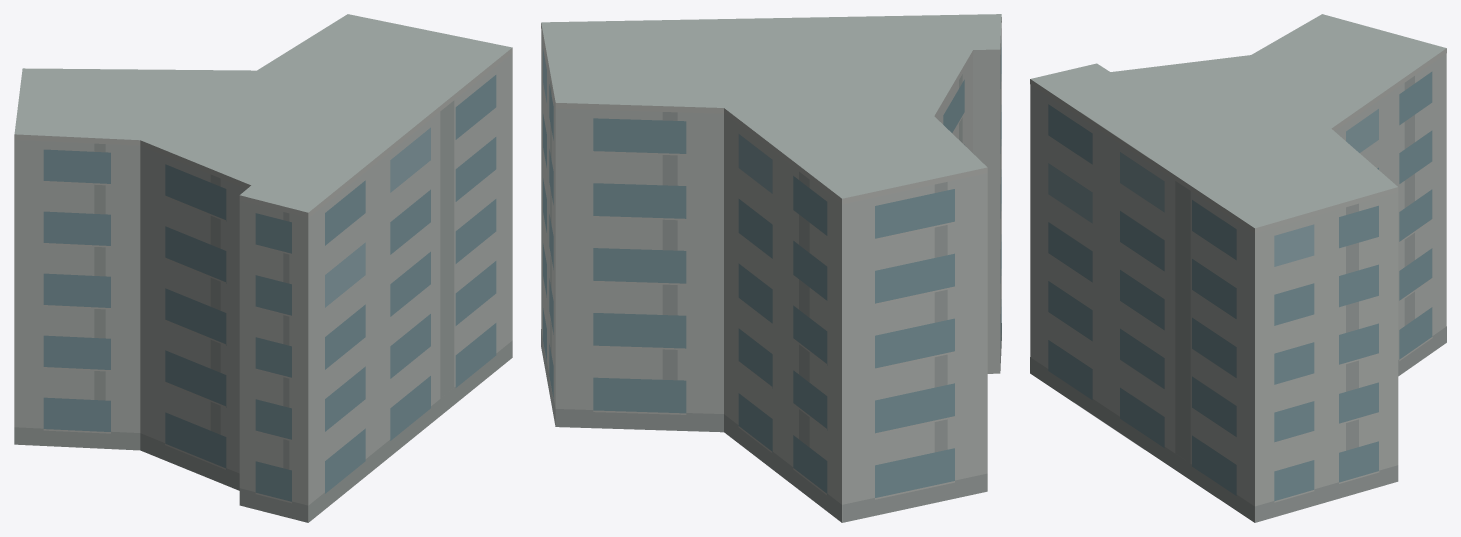
Rendered from survey-upis-32812053.glb.
3 renders of one model, left to right at view 1: azimuth 30°, elevation 25°; view 2: azimuth 150°, elevation 25°; view 3: azimuth 270°, elevation 25°, orthographic. The views are drawn at different scales.
Visible parts, largest first — view 1: survey-upis-32812053.tmp; view 2: survey-upis-32812053.tmp; view 3: survey-upis-32812053.tmp.
Part boxes in pixels (x1=…): survey-upis-32812053.tmp: x1=14, y1=14, x2=512, y2=522; survey-upis-32812053.tmp: x1=541, y1=14, x2=1001, y2=522; survey-upis-32812053.tmp: x1=1030, y1=14, x2=1446, y2=522.
Bounding box in the file's own units: 21.39 × 13.7 × 17.56.
